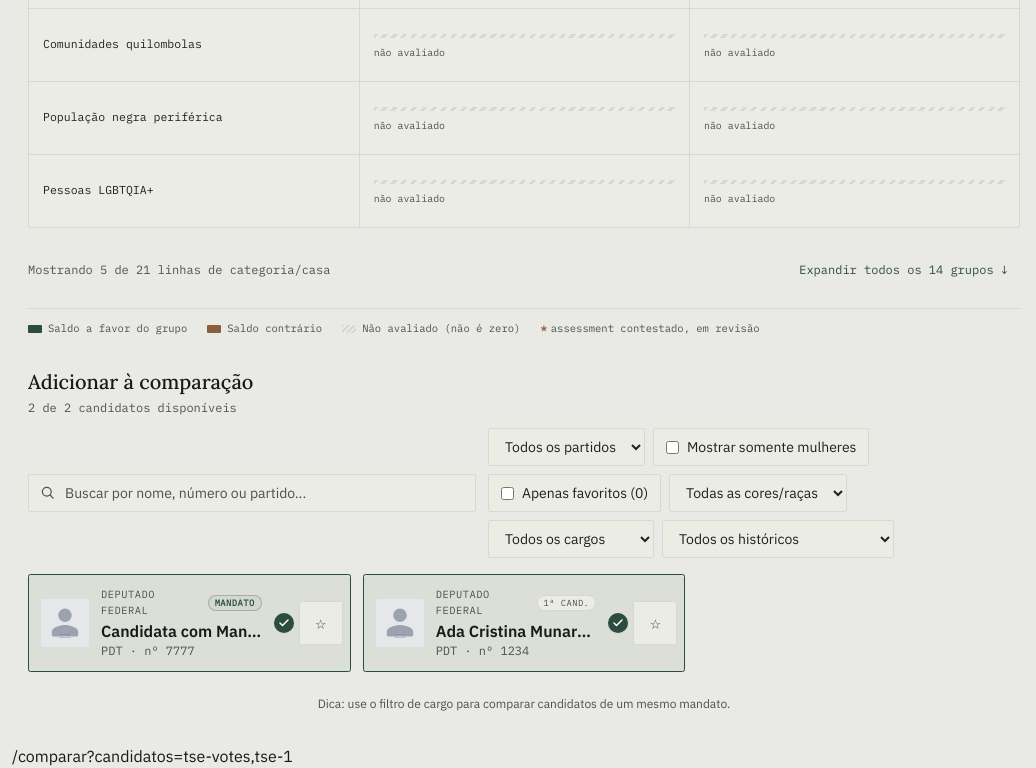
Test: ComparePage H5.3 › filtra candidatos por histórico de mandato e exibe badges de experiência
(page scrolled)
Filtra por mandato anterior no seletor
Select "Já eleito(a) anteriormente (1)" in the dropdown named "filtrar por histórico de mandato": (778, 540) [662,520,894,558]
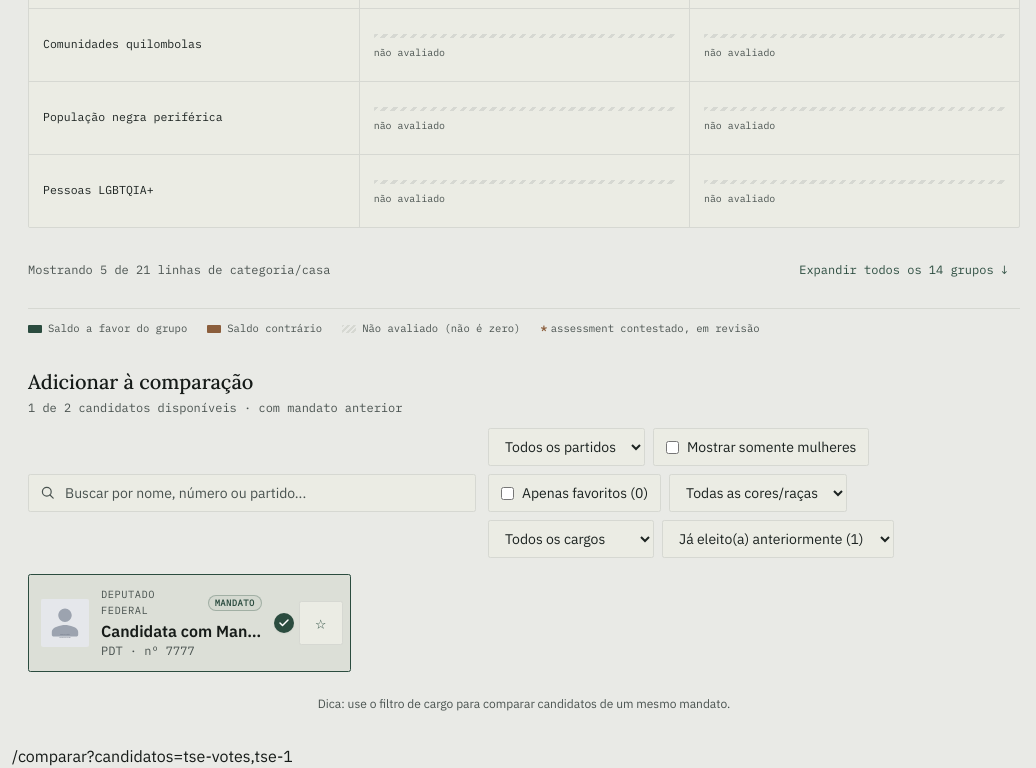
Expected: the text "Candidata com Mandato" is shown, [101,619,262,643]
Expected: the text "Ada Cristina Munaretto" is not shown
Filtra por estreante no seletor
Select "1ª candidatura / Estreante (1)" in the dropdown named "filtrar por histórico de mandato": (778, 540) [662,520,894,558]
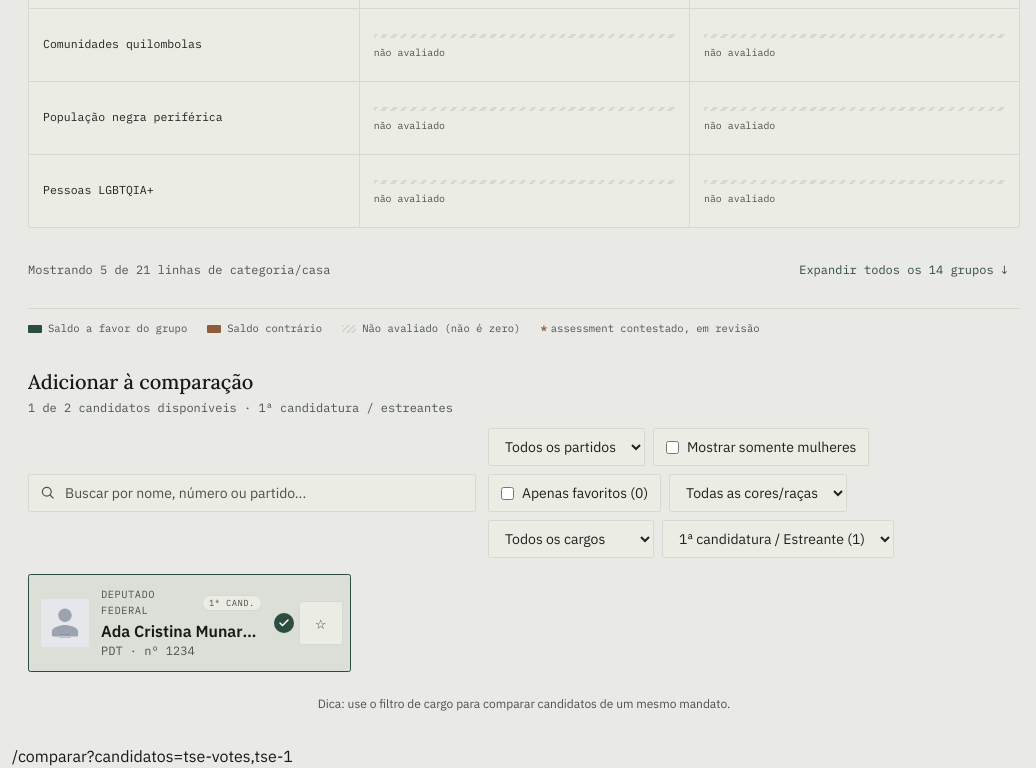
Expected: the text "Candidata com Mandato" is not shown
Now the text "Ada Cristina Munaretto" is shown, box [101,619,262,643]
